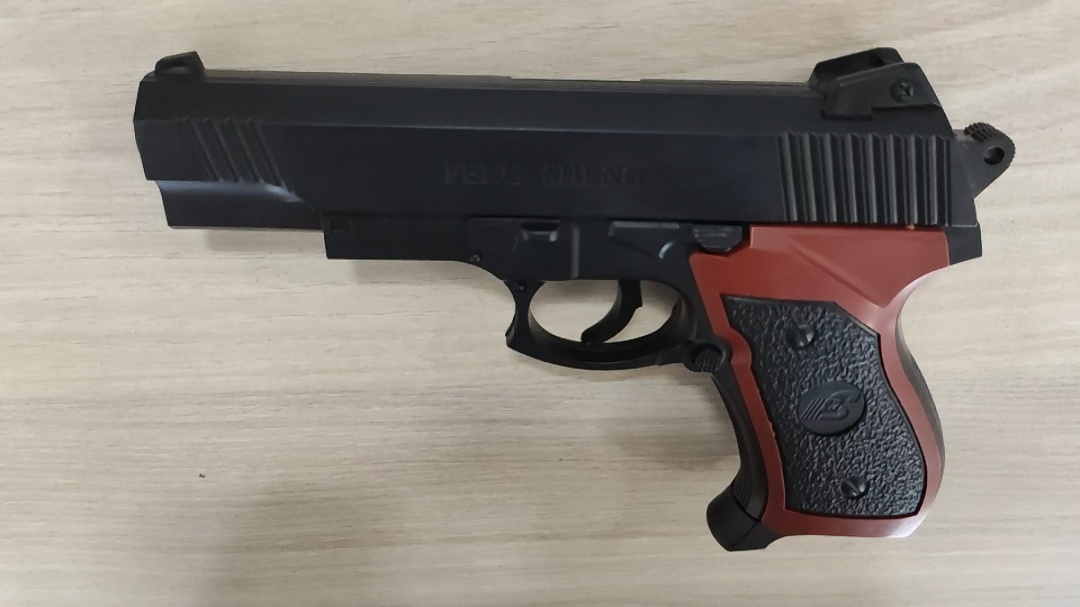gun: (134, 46, 1015, 550)
